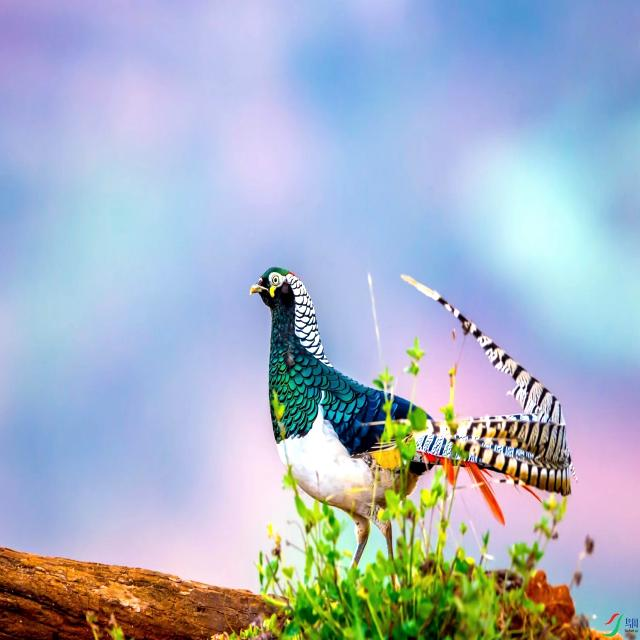Chrysolophus amherstiae: (402, 275, 575, 495)
